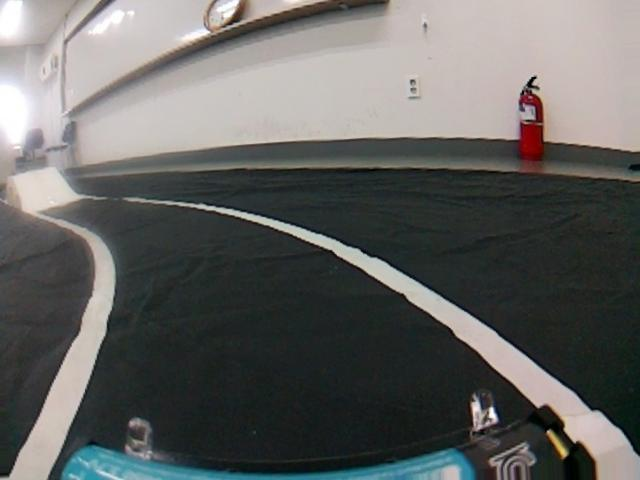straight: (8, 247, 640, 479)
